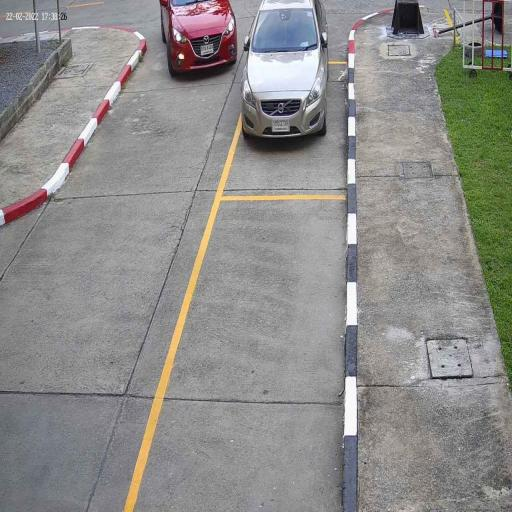car: (241, 0, 330, 144), (159, 0, 238, 76)
